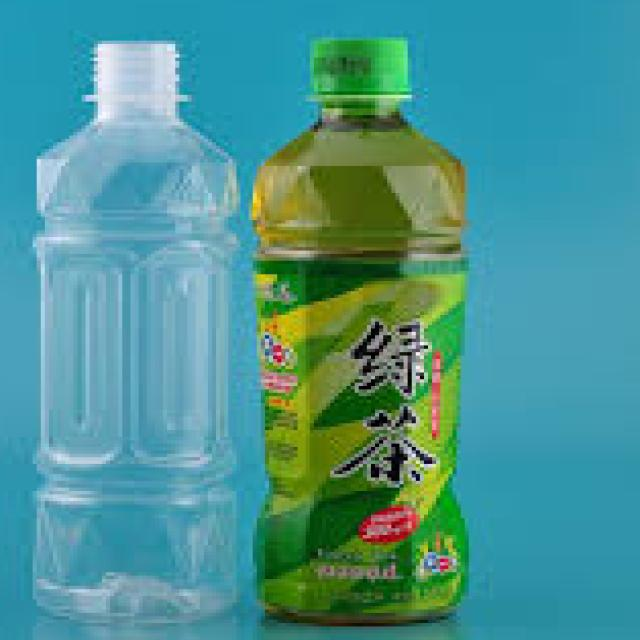organic: (217, 35, 504, 624), (26, 36, 252, 631)
